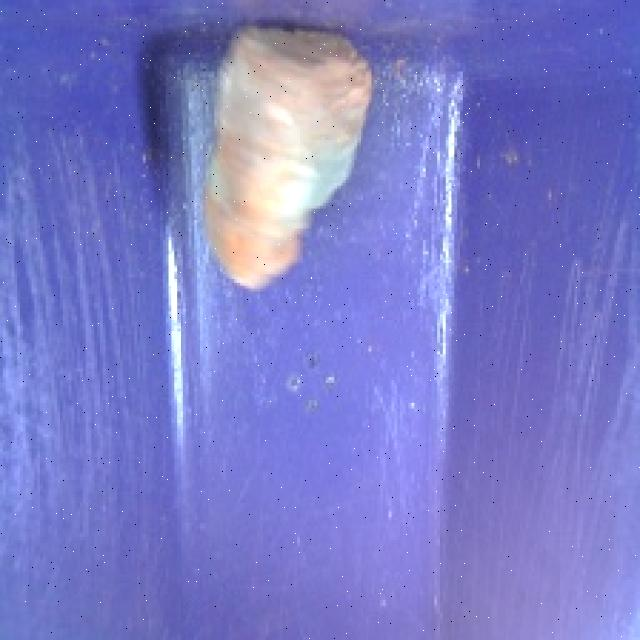brick: (188, 20, 381, 298)
